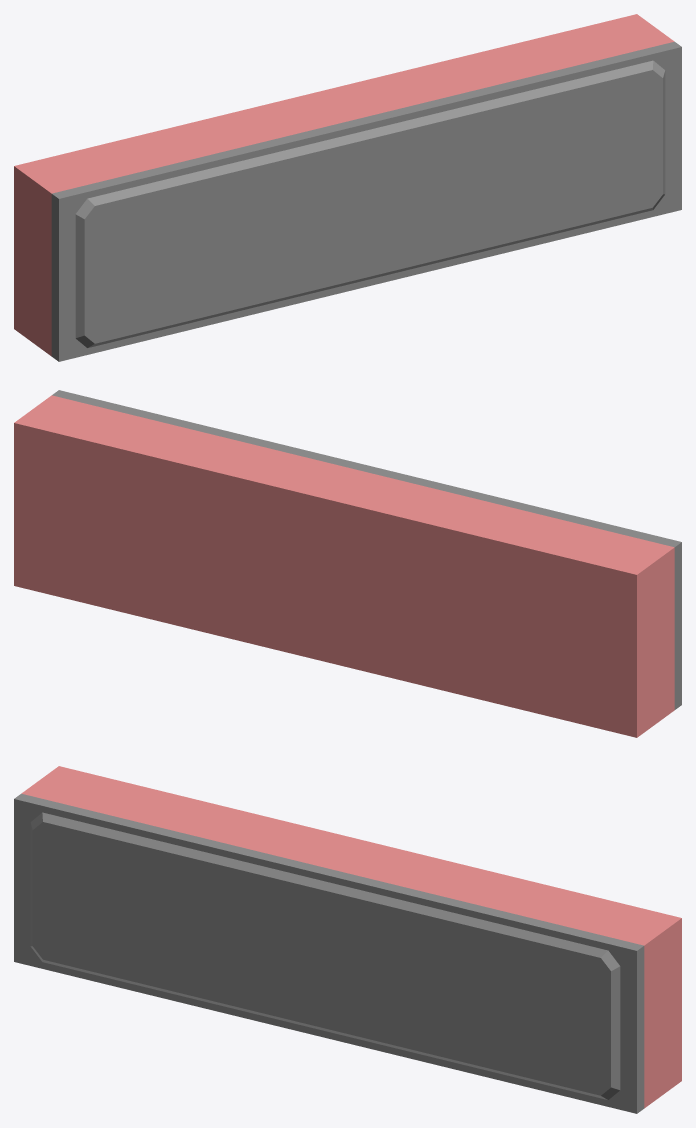
Rendered from S_Envi_Common_ReWall_01h.gltf.
The picture shows the model from 3 angles, top to bottom: view 1: azimuth 30°, elevation 25°; view 2: azimuth 150°, elevation 25°; view 3: azimuth 330°, elevation 25°; orthographic projection.
Visible parts, largest first — view 1: S_Envi_Common_ReWall_01h; view 2: S_Envi_Common_ReWall_01h; view 3: S_Envi_Common_ReWall_01h.
Part boxes in pixels (x1,y1,x2,y2): S_Envi_Common_ReWall_01h: (14,14,681,361); S_Envi_Common_ReWall_01h: (14,390,681,737); S_Envi_Common_ReWall_01h: (14,766,681,1113).
Size of the model in its own units: 4 by 1 by 0.5385.
